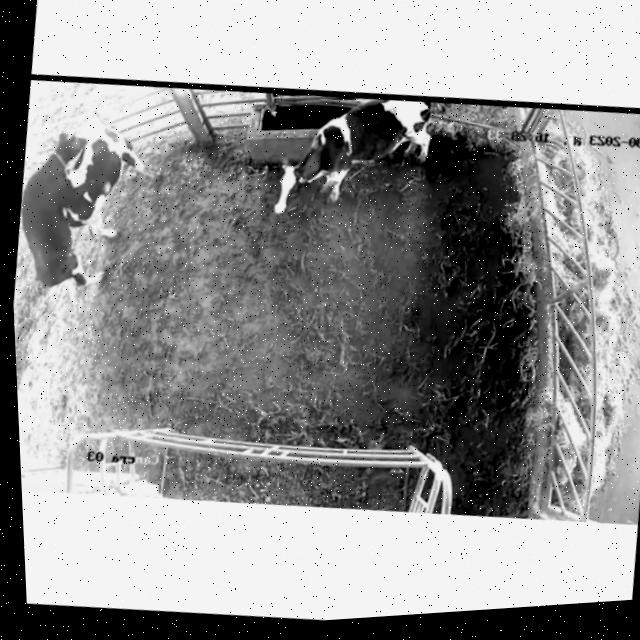ride: (7, 118, 117, 304)
